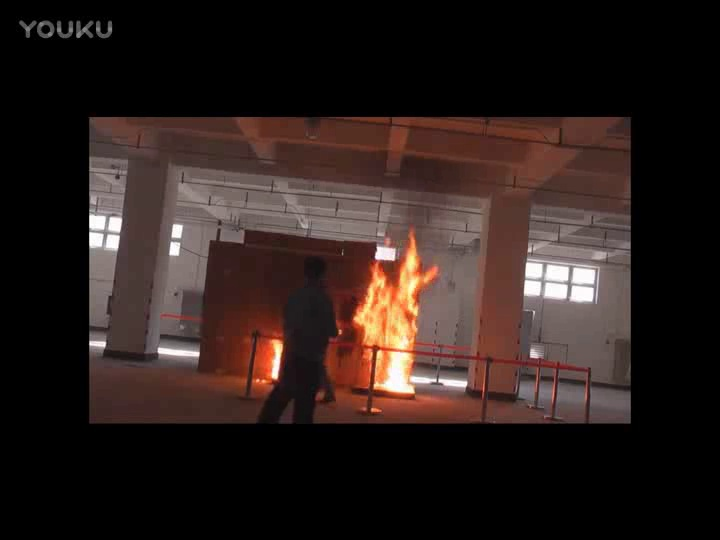fire: (365, 240, 424, 393), (262, 331, 288, 381)
